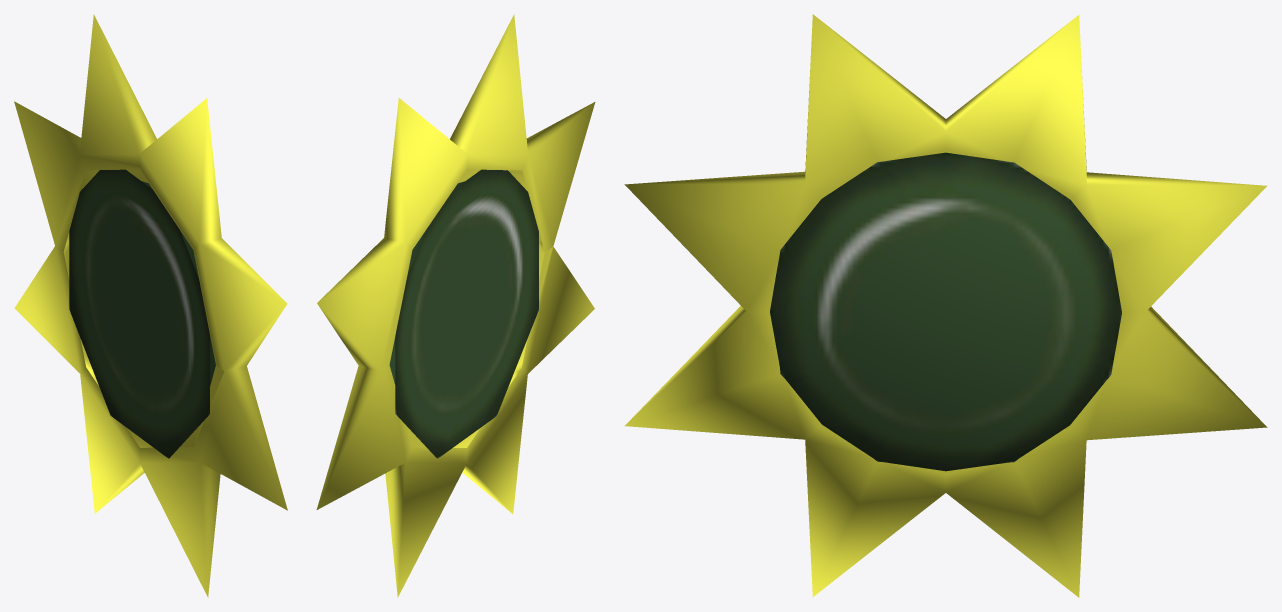
Rendered from GreenHillSunflowerTop2.obj.
3 views of the same model, side by side, from view 1: azimuth 30°, elevation 25°; view 2: azimuth 150°, elevation 25°; view 3: azimuth 270°, elevation 25° (orthographic). The views are drawn at different scales.
Bounding box in the file's own units: 0.968 × 10.23 × 10.23.
1 material, 1 textured.
